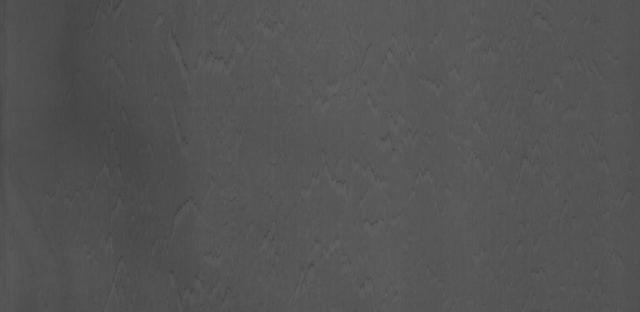silk_spot: (155, 45, 407, 289)
